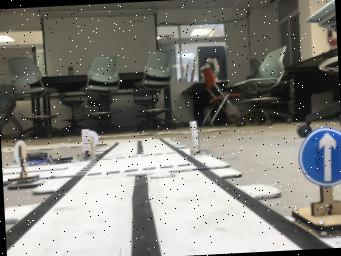forward: (291, 126, 341, 235)
street: (5, 137, 330, 256)
